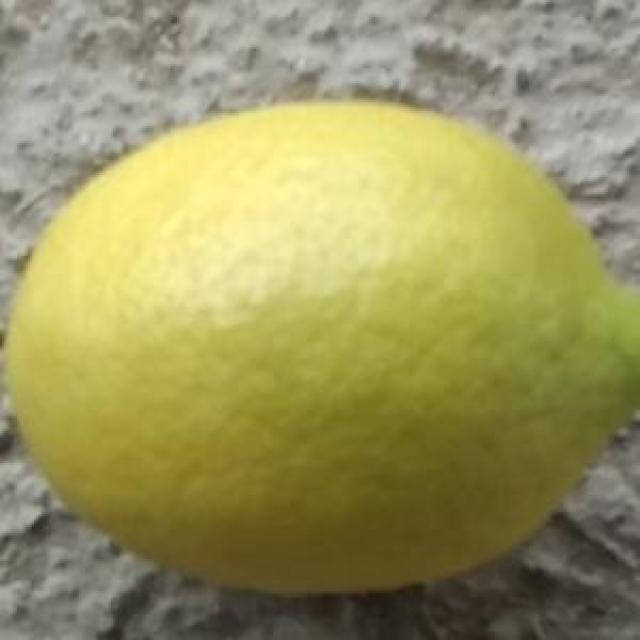lemon: (0, 96, 640, 604)
